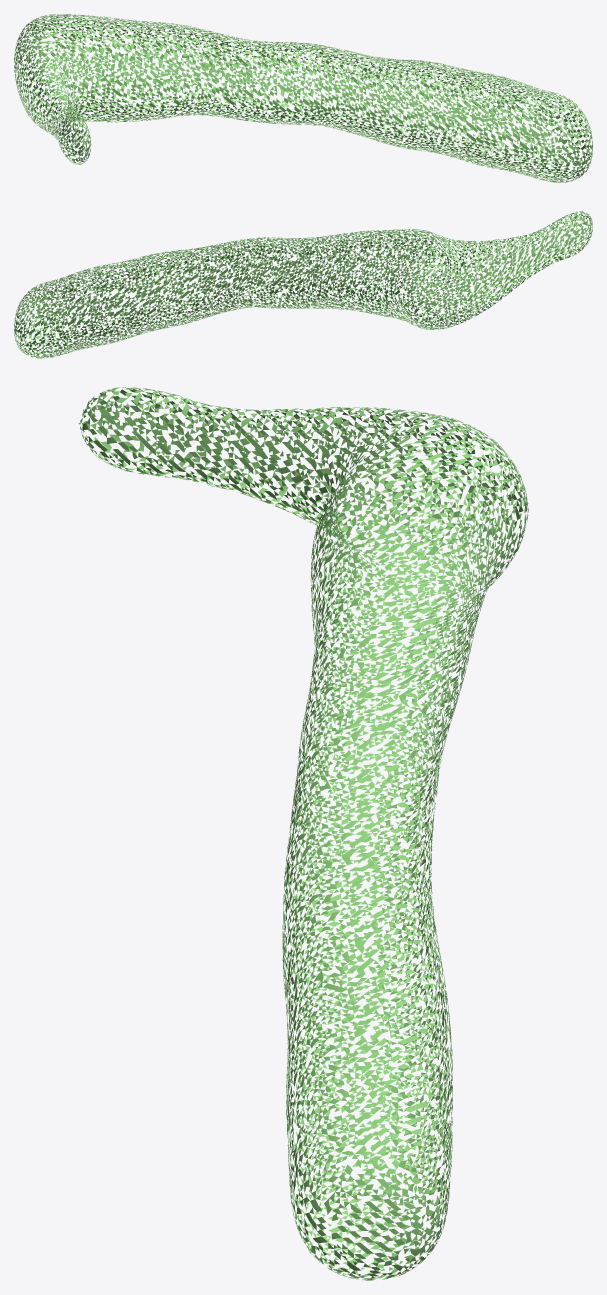
File: morph_015.glb
3 renders of one model, top to bottom at view 1: azimuth 30°, elevation 25°; view 2: azimuth 150°, elevation 25°; view 3: azimuth 270°, elevation 25°, orthographic. The views are drawn at different scales.
Bounding box in the file's own units: 124 × 52.85 × 48.13.
